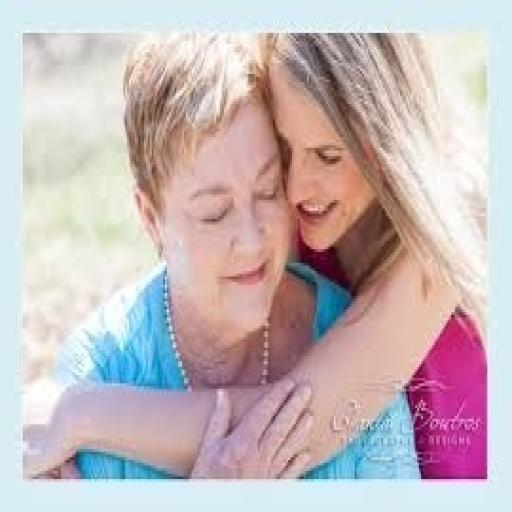hugging: (36, 28, 487, 480)
